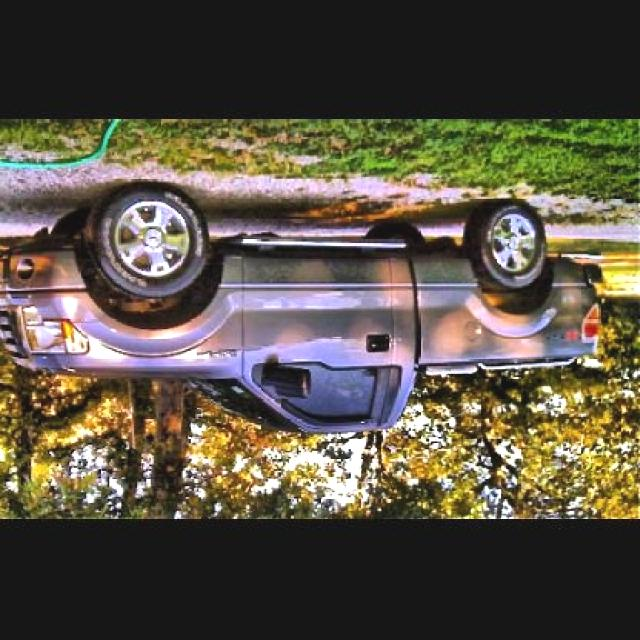black: (5, 190, 602, 435)
